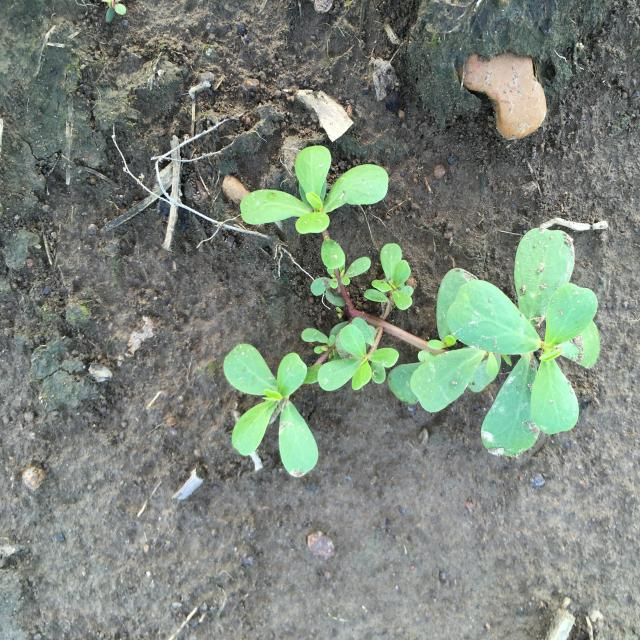Purslane: (223, 145, 601, 477)
